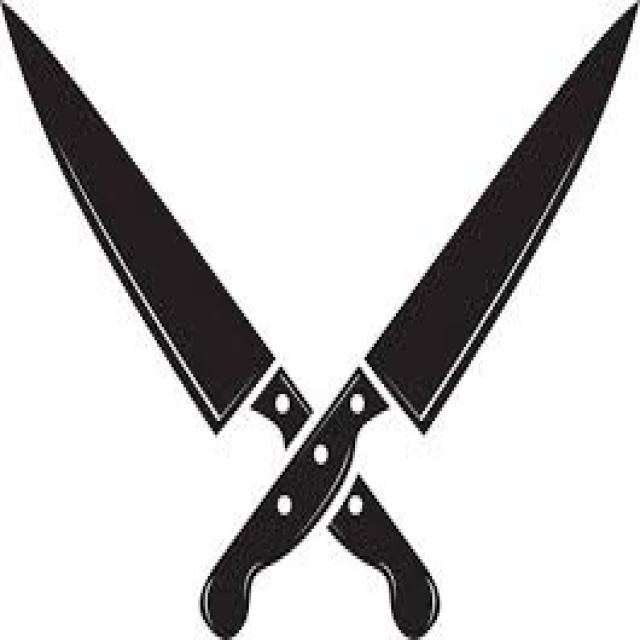Knife: (0, 0, 440, 637), (198, 0, 638, 637)
